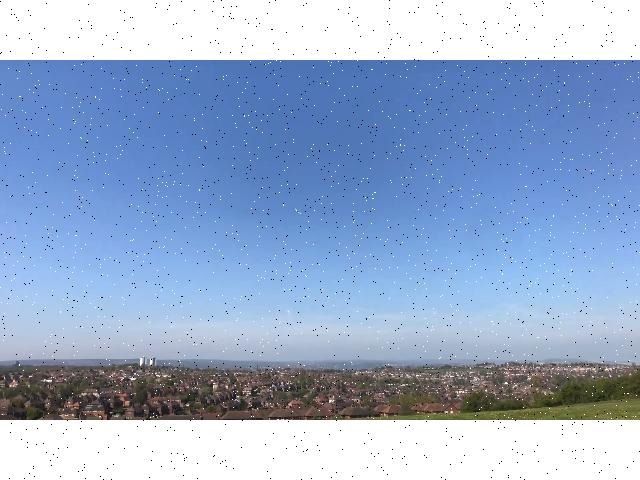Anti-Drone: (289, 197, 307, 220)
